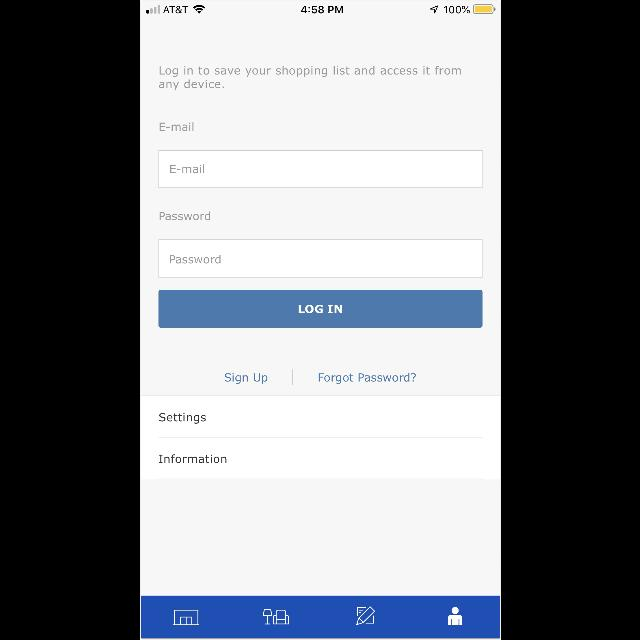icon: (172, 609, 198, 625), (356, 606, 374, 626), (447, 607, 461, 625)
image: (262, 609, 288, 625)
input: (158, 240, 482, 278), (158, 151, 482, 189)
text: (158, 66, 460, 90), (318, 372, 414, 383), (158, 454, 226, 464), (158, 413, 206, 423), (224, 374, 266, 384), (169, 255, 219, 263), (159, 212, 209, 220), (170, 165, 204, 173), (159, 123, 193, 131)
textbutton: (158, 290, 482, 328)
uppertaskbar: (140, 0, 500, 14)
